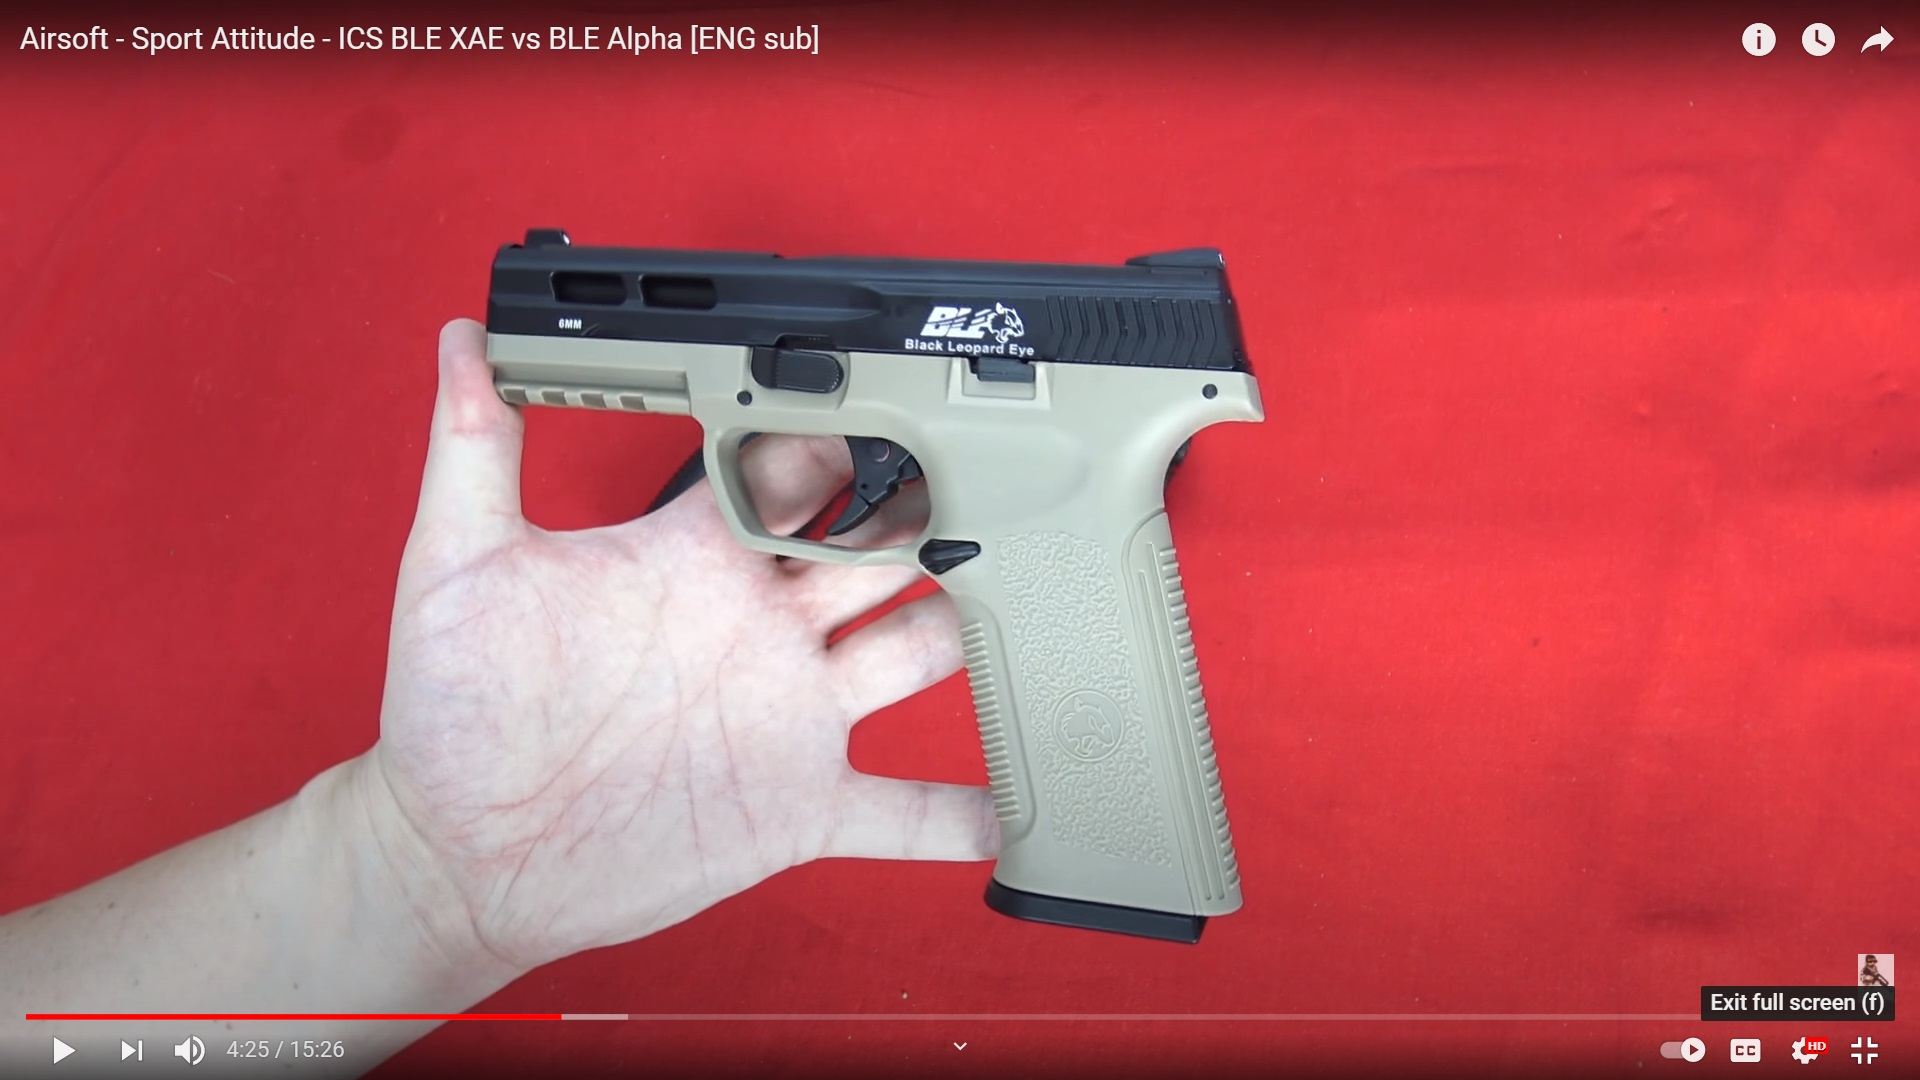asg_ics_ble_xae: (477, 220, 1265, 935)
